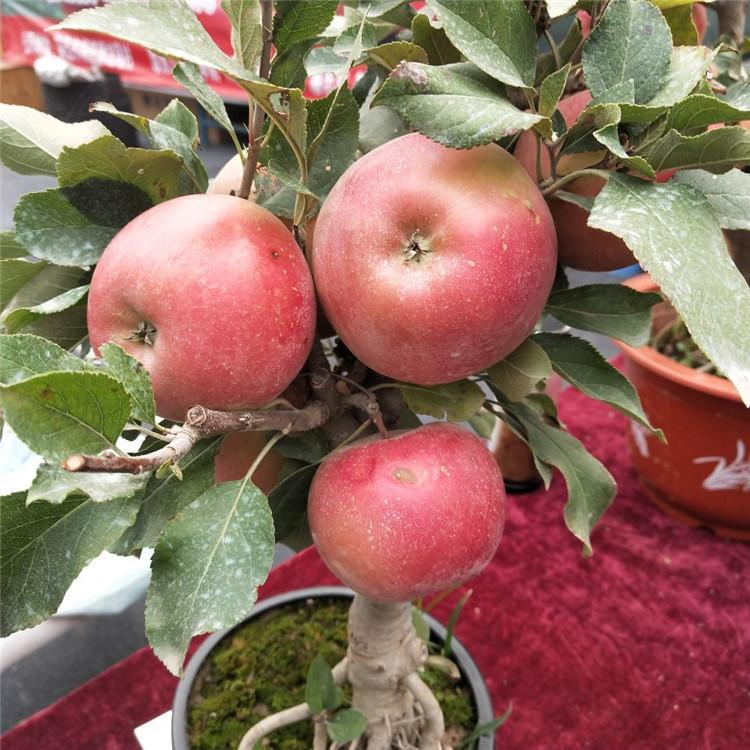apple: (309, 130, 559, 387), (84, 194, 318, 428), (305, 423, 507, 605)
